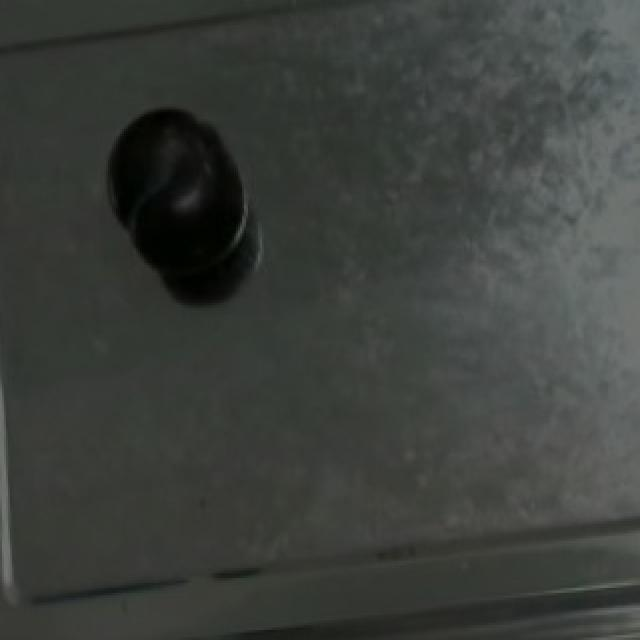Fruit: (104, 94, 256, 300)
